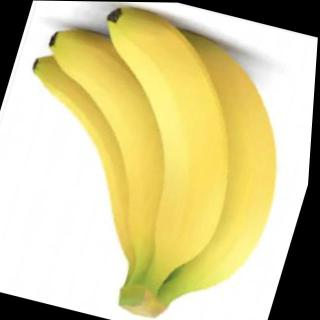banana: (42, 1, 274, 271), (98, 21, 319, 301), (0, 16, 234, 261), (0, 44, 208, 264)
